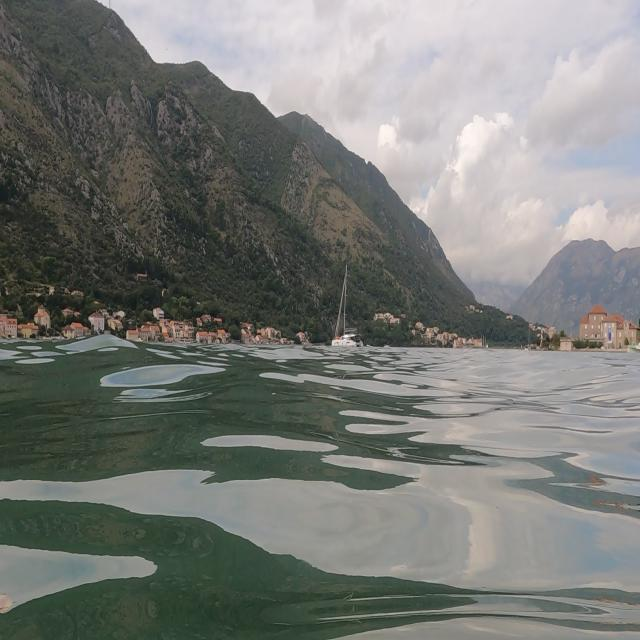boat: (328, 260, 362, 352)
